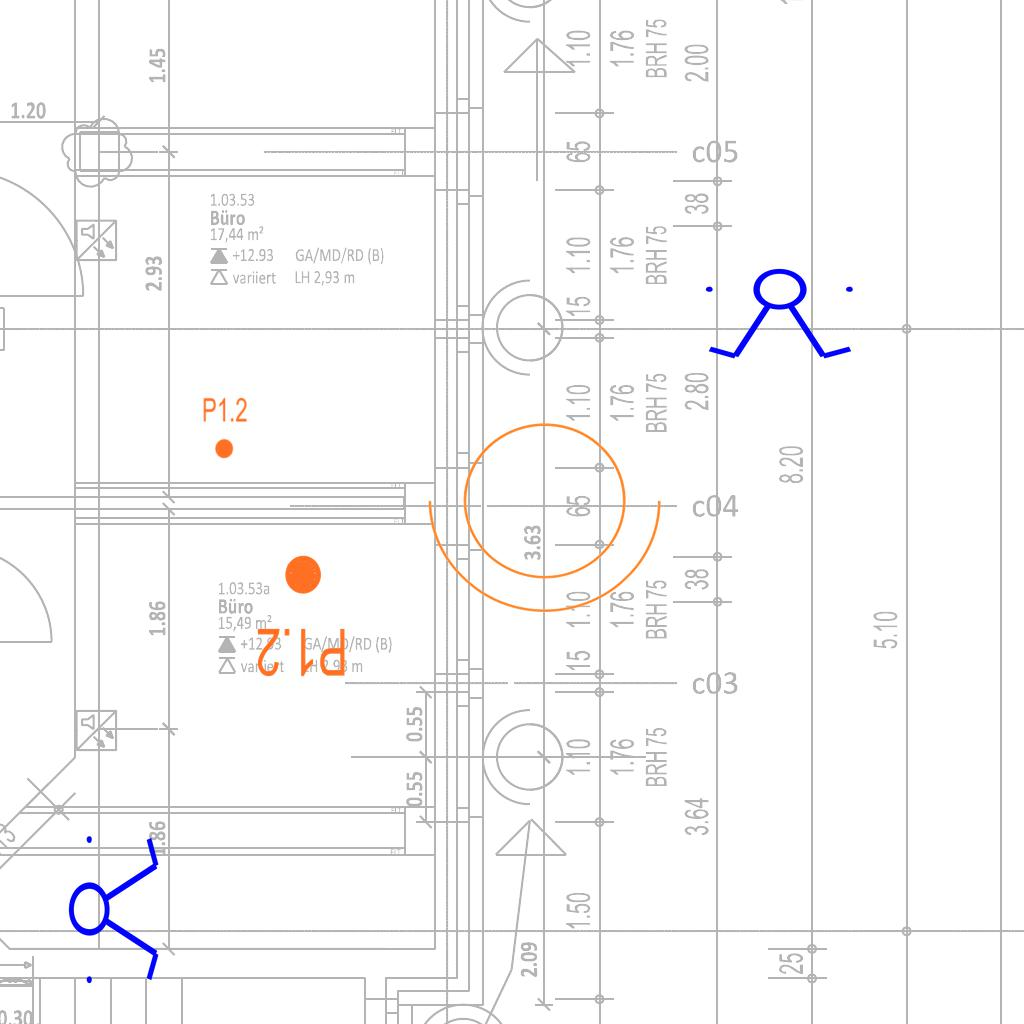Downlight_LED_Einbauleuchten_Flur: (255, 552, 348, 680), (202, 396, 248, 460)
Scheinwerfer_fuer_Alarmbeleuchtung: (419, 398, 683, 623)
Serienschalter: (697, 267, 865, 363), (67, 824, 163, 992)
